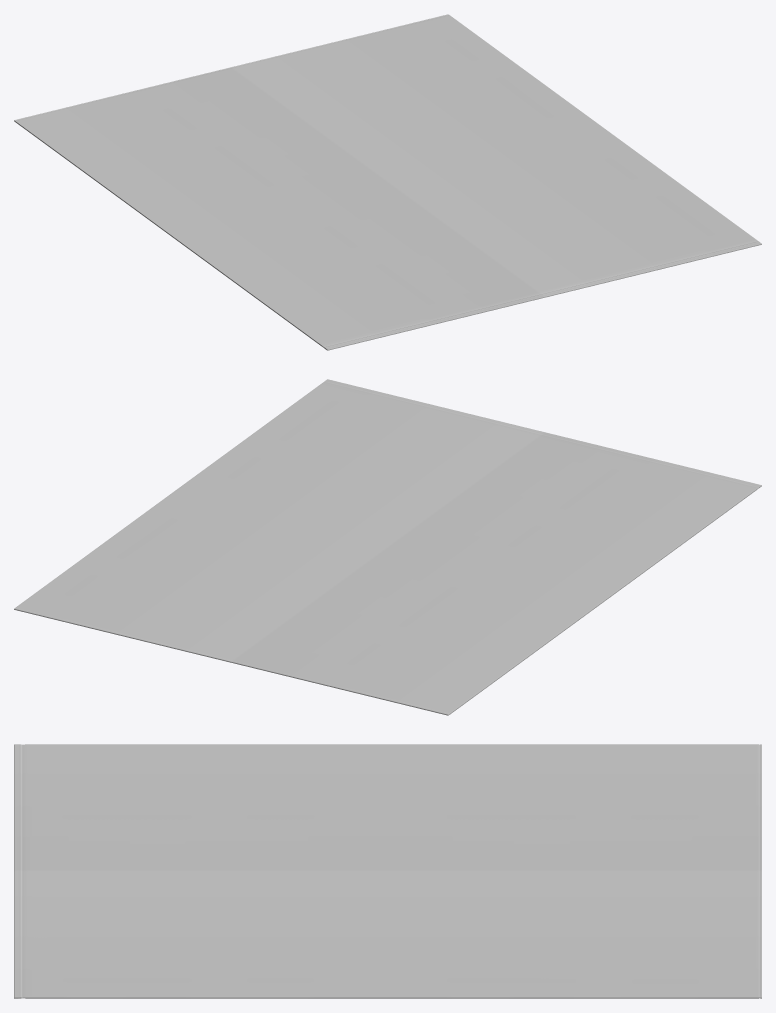
File: Project Name.gltf
3 renders of one model, top to bottom at view 1: azimuth 30°, elevation 25°; view 2: azimuth 150°, elevation 25°; view 3: azimuth 270°, elevation 25°, orthographic. The views are drawn at different scales.
Visible parts, largest first — view 1: 51072_StrellaRug_Grey; view 2: 51072_StrellaRug_Grey; view 3: 51072_StrellaRug_Grey.
Part boxes in pixels (x1,y1,x2,y2): 51072_StrellaRug_Grey: [14, 14, 761, 350]; 51072_StrellaRug_Grey: [14, 379, 761, 715]; 51072_StrellaRug_Grey: [14, 744, 761, 998].
Bounding box in the file's own units: 2.44 × 0.00716 × 3.05.
1 material, 1 textured.
